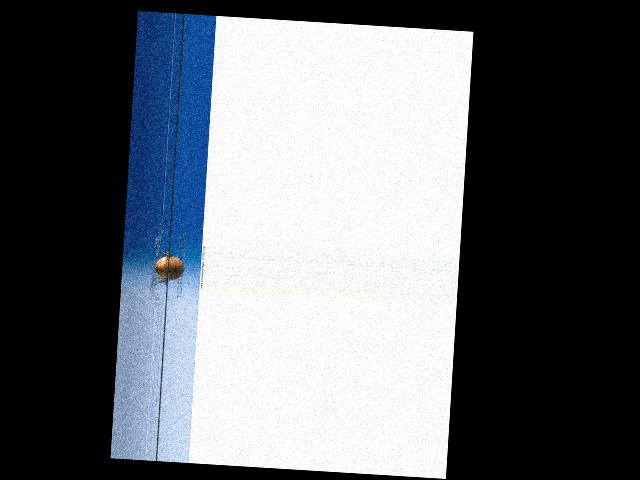egg: (154, 255, 184, 281)
